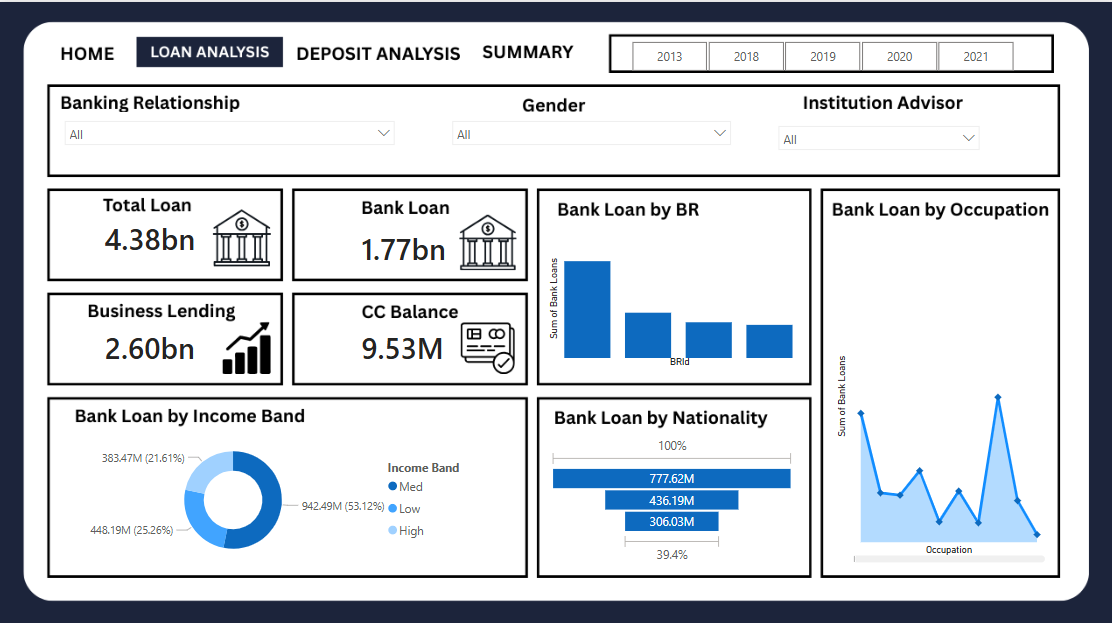

What the dashboard file says about the page in this screenshot:
{"tool":"powerbi","page":{"name":"Loan Analysis","canvas":[1280,720],"ordinal":1},"visuals":[{"type":"slicer","fields":{"Values":["banking customer.Year of joining"]},"box":[700,38.6,485.7,47.1],"z":0},{"type":"actionButton","box":[50,42.9,100,40],"z":1000},{"type":"actionButton","box":[551.4,42.9,117.1,40],"z":2000},{"type":"actionButton","box":[334.3,42.9,202.9,40],"z":3000},{"type":"card","fields":{"Values":["banking customer.Total Loan"]},"box":[75.7,194.3,198.6,154.3],"z":4000},{"type":"card","fields":{"Values":["Sum(banking customer.Credit Card Balance)"]},"box":[364.3,318.6,198.6,154.3],"z":5000},{"type":"card","fields":{"Values":["Sum(banking customer.Business Lending)"]},"box":[75.7,318.6,198.6,154.3],"z":6000},{"type":"card","fields":{"Values":["Sum(banking customer.Bank Loans)"]},"box":[365.7,205.7,198.6,154.3],"z":7000},{"type":"donutChart","fields":{"Category":["banking customer.Income Band"],"Y":["Sum(banking customer.Bank Loans)"]},"box":[88.6,492.9,462.9,152.9],"z":8000},{"type":"columnChart","fields":{"Category":["banking customer.BRId"],"Y":["Sum(banking customer.Bank Loans)"]},"box":[625.7,257.1,291.4,165.7],"z":9000},{"type":"funnel","fields":{"Category":["banking customer.Nationality"],"Y":["Sum(banking customer.Bank Loans)"]},"box":[625.7,492.9,291.4,152.9],"z":10000},{"type":"areaChart","fields":{"Category":["banking customer.BRId","banking customer.Occupation"],"Y":["Sum(banking customer.Bank Loans)"]},"box":[955.7,265.7,247.1,380],"z":11000},{"type":"slicer","title":"Banking Relationship","fields":{"Values":["banking customer.BRId"]},"box":[67.1,125.7,397.1,68.6],"z":12000},{"type":"slicer","title":"Banking Relationship","fields":{"Values":["banking customer.GenderId"]},"box":[510,125.7,338.6,68.6],"z":13000},{"type":"slicer","title":"Banking Relationship","fields":{"Values":["banking customer.IAId"]},"box":[882.9,131.4,250,57.1],"z":14000}]}

Visuals, with their boxes in screenshot pixels (x1, y1, x2, y2), scaled from the page's 1280x720 canvas onto the 1112x623 screenshot:
slicer - banking customer.Year of joining: <bbox>608, 33, 1030, 74</bbox>
actionButton: <bbox>43, 37, 130, 72</bbox>
actionButton: <bbox>479, 37, 581, 72</bbox>
actionButton: <bbox>290, 37, 467, 72</bbox>
card - banking customer.Total Loan: <bbox>66, 168, 238, 302</bbox>
card - Sum(banking customer.Credit Card Balance): <bbox>316, 276, 489, 409</bbox>
card - Sum(banking customer.Business Lending): <bbox>66, 276, 238, 409</bbox>
card - Sum(banking customer.Bank Loans): <bbox>318, 178, 490, 312</bbox>
donutChart - banking customer.Income Band x Sum(banking customer.Bank Loans): <bbox>77, 426, 479, 559</bbox>
columnChart - banking customer.BRId x Sum(banking customer.Bank Loans): <bbox>544, 222, 797, 366</bbox>
funnel - banking customer.Nationality x Sum(banking customer.Bank Loans): <bbox>544, 426, 797, 559</bbox>
areaChart - banking customer.BRId x banking customer.Occupation: <bbox>830, 230, 1045, 559</bbox>
"Banking Relationship" slicer: <bbox>58, 109, 403, 168</bbox>
"Banking Relationship" slicer: <bbox>443, 109, 737, 168</bbox>
"Banking Relationship" slicer: <bbox>767, 114, 984, 163</bbox>
